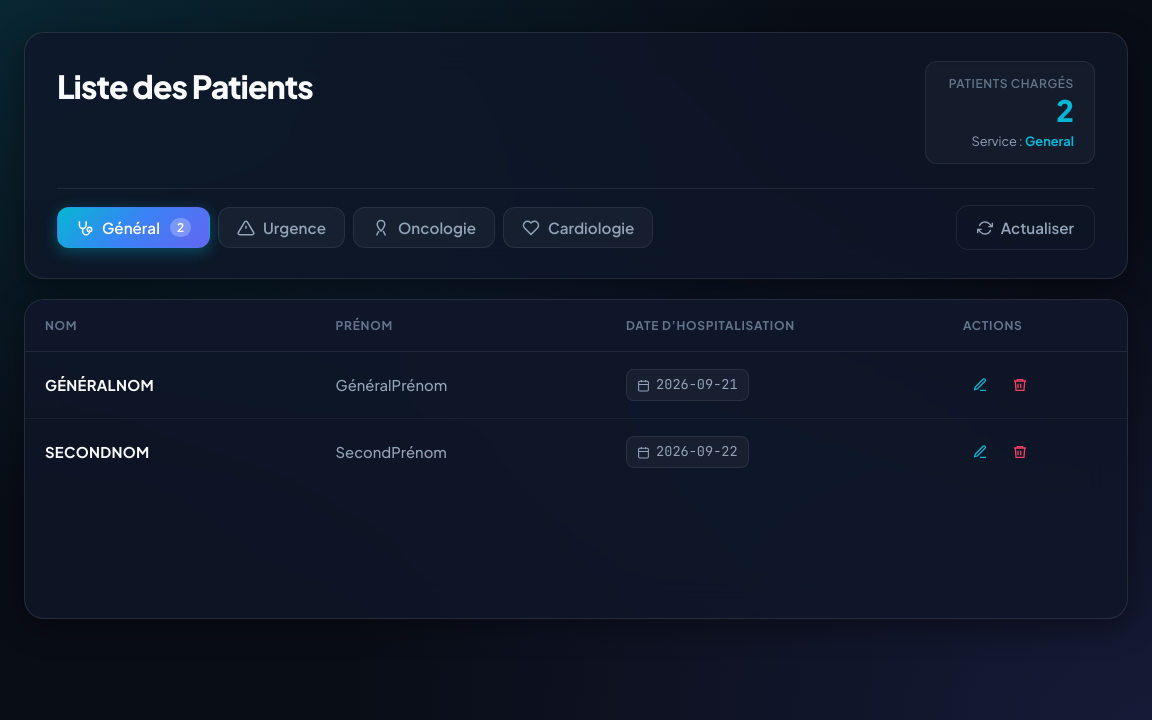
Test: PatientsView service tabs › edits only the selected row and pre-fills common fields with the correct input types
Click the button named "Modifier GénéralPrénom GénéralNom" at x=980, y=385, box [963,368,997,402]
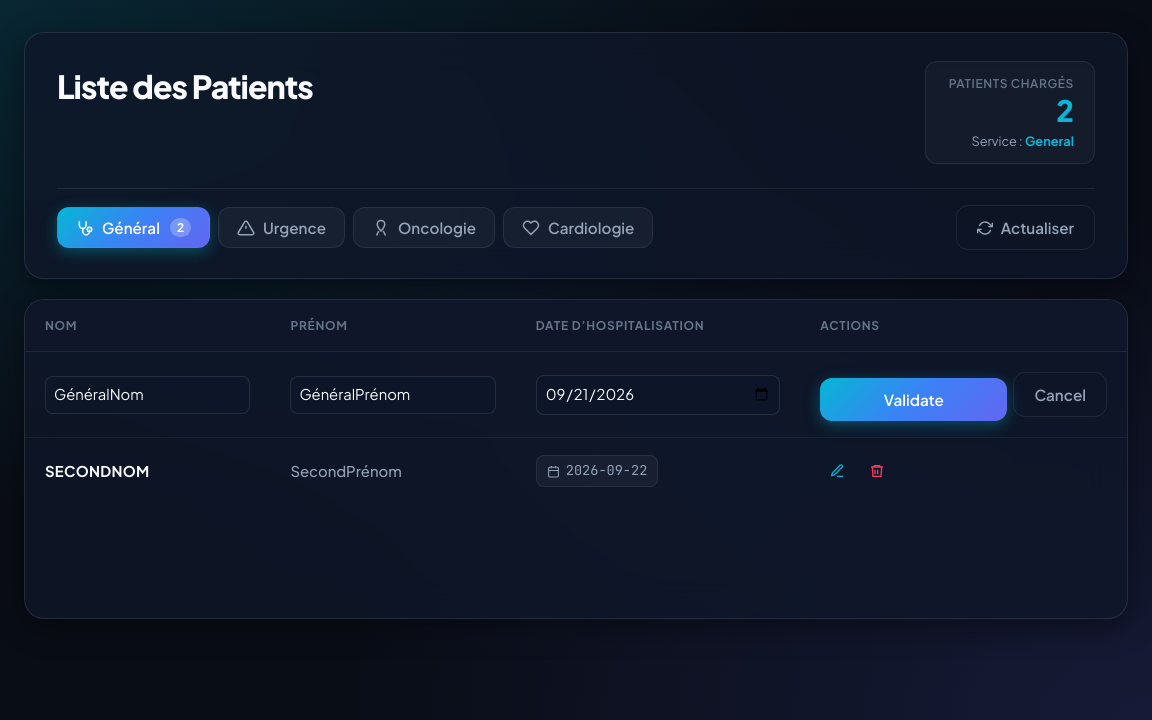
Expected: the button named "Modifier SecondPrénom SecondNom" is shown, [820,454,854,488]
Expected: the field named "nom" holds "GénéralNom", [45,376,250,414]
Expected: the field named "prenom" holds "GénéralPrénom", [290,376,496,414]
